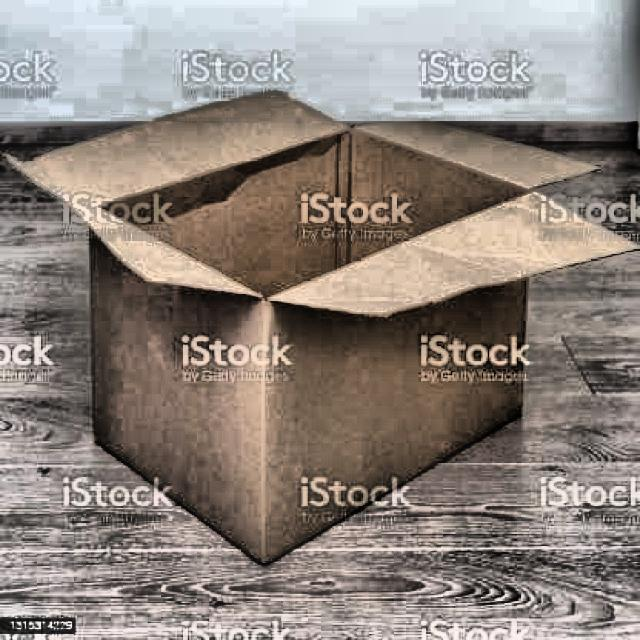Cardbox: (26, 66, 632, 571)
